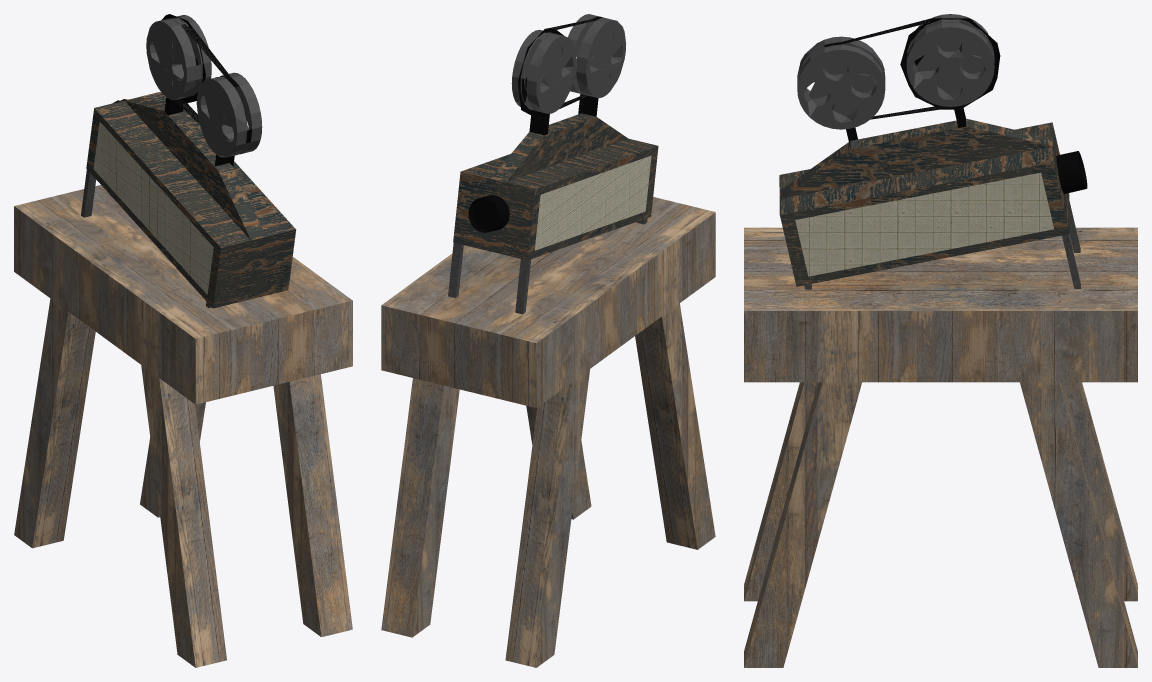
File: CinemaProjector.fbx
3 views of the same model, side by side, from view 1: azimuth 30°, elevation 25°; view 2: azimuth 150°, elevation 25°; view 3: azimuth 270°, elevation 25° (orthographic). The views are drawn at different scales.
Parts seen in each view (by area): view 1: Base, Projector, Movies; view 2: Base, Projector, Movies; view 3: Base, Projector, Movies.
Boxes of the visible parts, x1,y1,x2,y2 form: Base: (14,185,352,667); Projector: (81,91,296,308); Movies: (146,14,262,157); Base: (381,197,715,667); Projector: (448,94,658,314); Movies: (511,14,625,119); Base: (744,227,1137,667); Projector: (779,105,1087,289); Movies: (797,14,1000,129).
Size of the model in its own units: 50 by 170 by 100.
